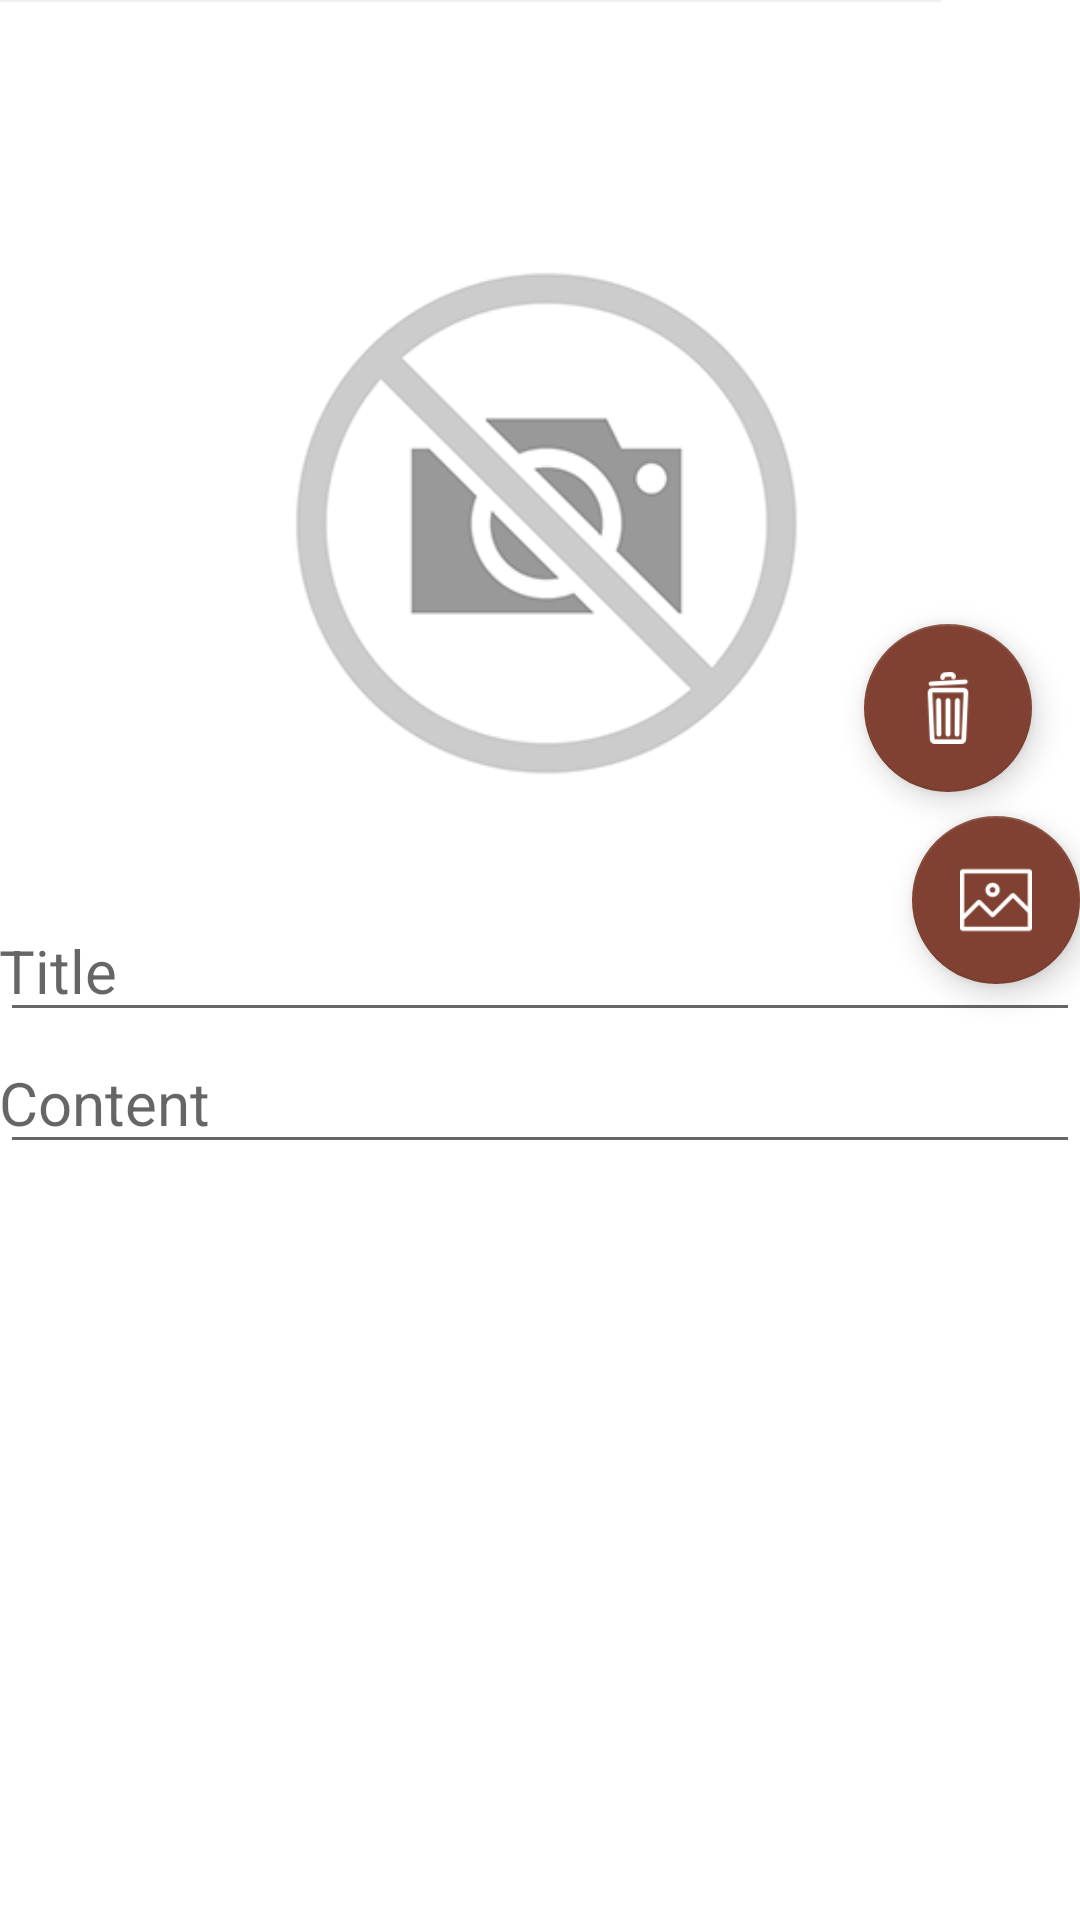

Screen size 1080w x 1920h. Icon name, then its center in pixels as (x,y):
addimage: (996,900)
binicon: (948,708)
